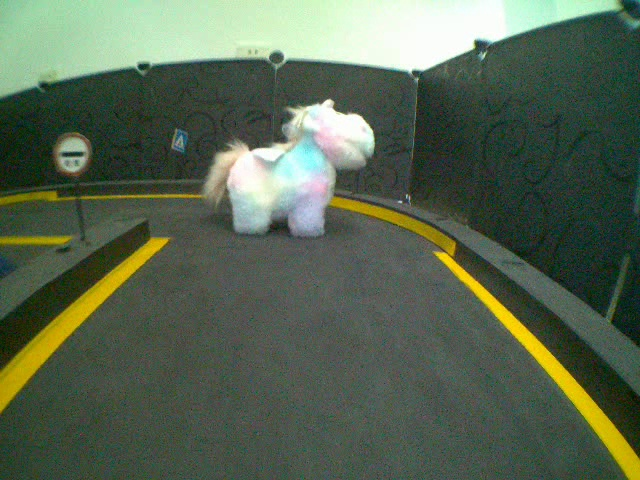unicorn: (195, 96, 379, 242)
